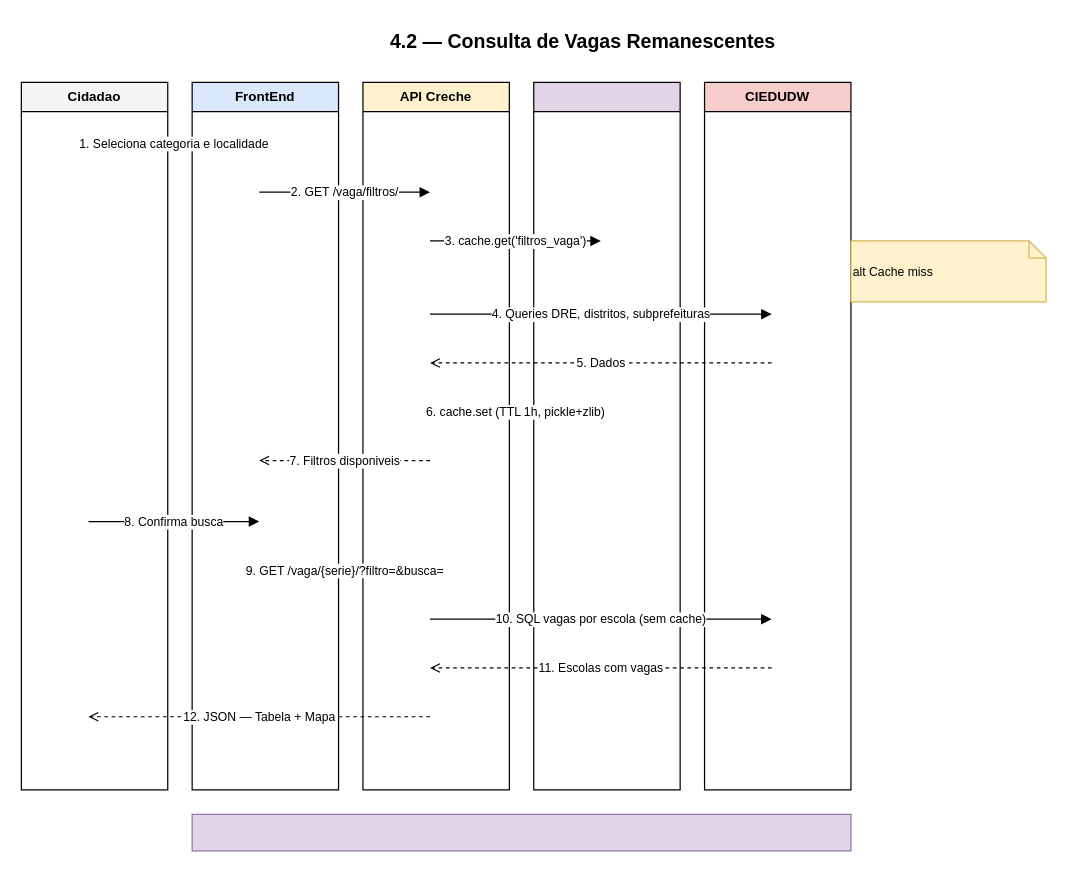
Image size: 1068x872. Some labels were removed from this diagram. The shapes that lost their labels are listed below. From the top down, each one's centre as x and y in pixels, then its label:
At (x=606, y=435): "Redis".
At (x=521, y=832): "Unico endpoint cacheado: GET /vaga/filtros/ | Chave: filtros_vaga | TTL: 3600s".
